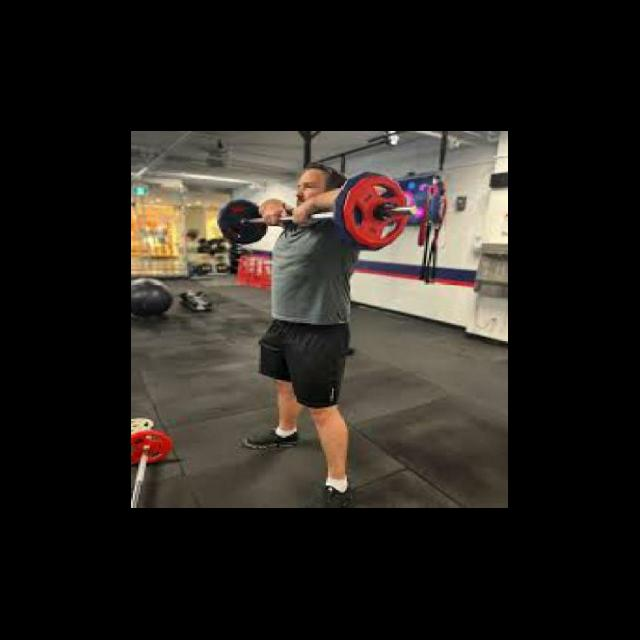barbell: (333, 170, 419, 252)
